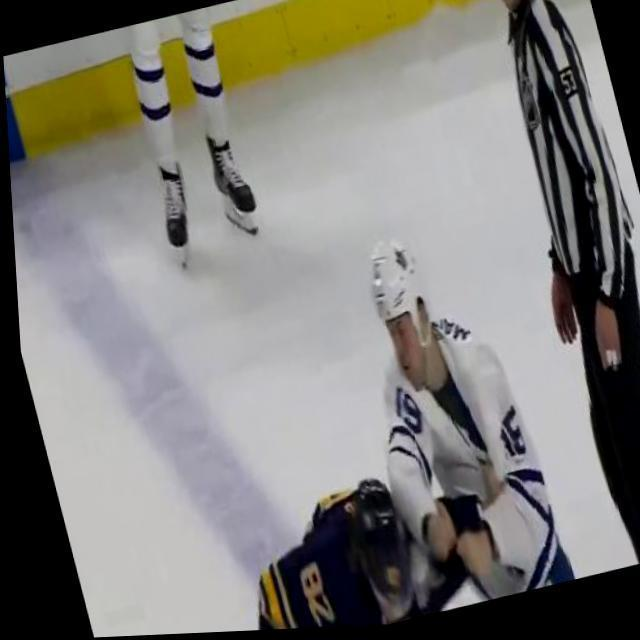fight: (166, 214, 576, 635)
